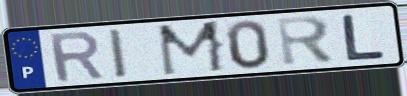0: (224, 17, 273, 72)
I: (106, 27, 131, 81)
L: (339, 13, 388, 63)
M: (155, 19, 229, 79)
R: (274, 14, 338, 69), (46, 29, 107, 85)
